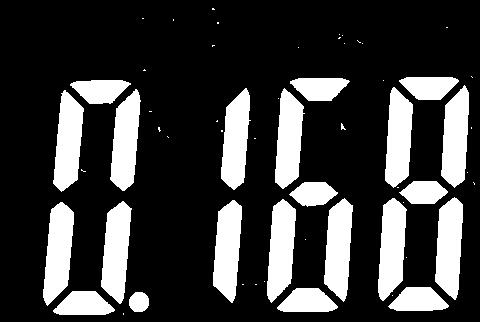0: (43, 80, 141, 319)
1: (213, 88, 251, 307)
6: (267, 76, 357, 315)
8: (374, 75, 472, 313)
dot: (127, 287, 152, 315)
